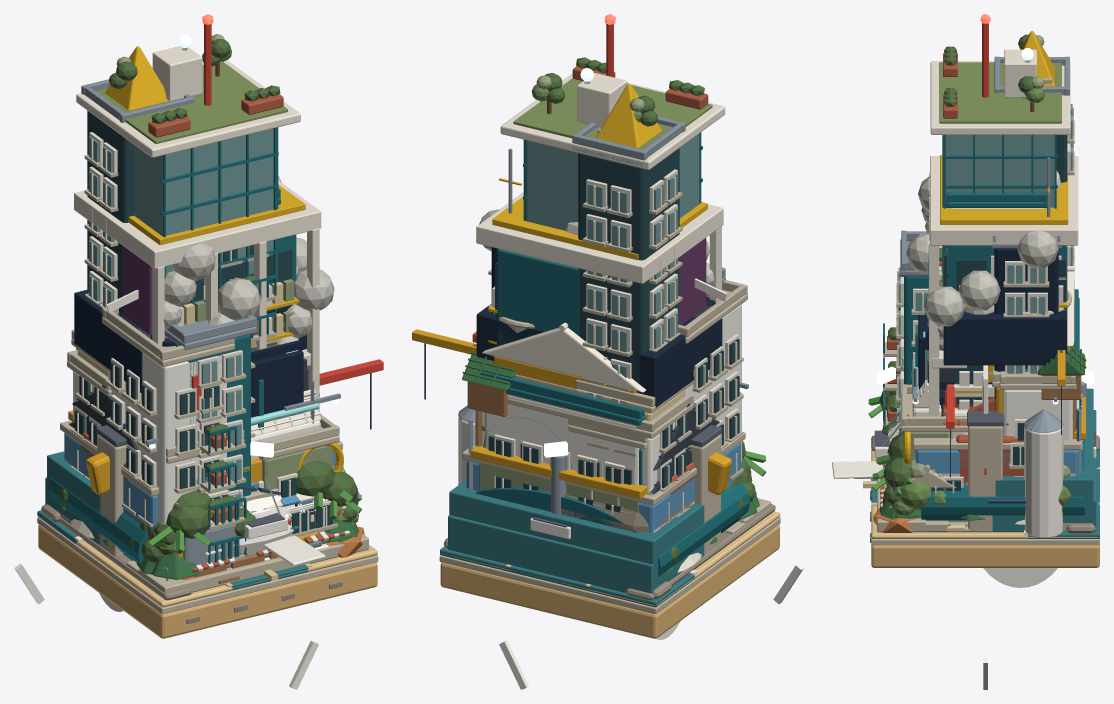
File: mandato.glb
3 renders of one model, left to right at view 1: azimuth 30°, elevation 25°; view 2: azimuth 150°, elevation 25°; view 3: azimuth 270°, elevation 25°, orthographic. The views are drawn at different scales.
Visible parts, largest first — view 1: M-14_M_cream_0.65_0.0, E3-01_M_glassl_0.3_0.0, g-A_M_dune_0.65_0.0, E3-01_M_cream_0.65_0.0, E2-05_M_white_0.65_0.0, E2-05_M_stone_0.65_0.0, E3-01_M_grass2_0.65_0.0, E3-02_M_smoke_0.9_0.0, E2-05_M_cream_0.65_0.0, M-07_M_cream_0.65_0.0, E2-05, M-07 (+45 smaller); view 2: g-A_M_dune_0.65_0.0, M-07_M_glass_0.65_0.0, R-MON-2_M_sea_0.15_0.0, M-05_M_sea_0.15_0.0, M-14_M_cream_0.65_0.0, M-14_M_teal_0.65_0.0, E3-01_M_glassl_0.3_0.0, M-13_M_navy_0.65_0.0, E3-01_M_cream_0.65_0.0, R-LIT-3_M_white_0.65_0.0, M-07_M_cream_0.65_0.0, E2-05_M_stone_0.65_0.0 (+38 smaller); view 3: M-14_M_cream_0.65_0.0, M-13_M_navy_0.65_0.0, E3-01_M_glassl_0.3_0.0, g-A_M_dune_0.65_0.0, E3-01_M_grass2_0.65_0.0, E3-02_M_white_0.65_0.0, E3-01_M_cream_0.65_0.0, M-05_M_sea_0.15_0.0, M-14_M_gold_0.65_0.0, E2-03_M_smoke_0.9_0.0, E3-04_M_teal_0.65_0.0, M-05_M_stone_0.65_0.0 (+43 smaller).
Boxes of the visible parts, x1,y1,x2,y2 form: M-14_M_cream_0.65_0.0: [74, 180, 321, 412]; E3-01_M_glassl_0.3_0.0: [134, 128, 273, 285]; g-A_M_dune_0.65_0.0: [38, 524, 377, 638]; E3-01_M_cream_0.65_0.0: [76, 46, 349, 571]; E2-05_M_white_0.65_0.0: [73, 353, 328, 549]; E2-05_M_stone_0.65_0.0: [67, 307, 235, 563]; E3-01_M_grass2_0.65_0.0: [96, 61, 287, 143]; E3-02_M_smoke_0.9_0.0: [163, 243, 260, 328]; E2-05_M_cream_0.65_0.0: [75, 358, 220, 519]; M-07_M_cream_0.65_0.0: [89, 132, 242, 506]; E2-05: [74, 362, 219, 500]; M-07: [88, 136, 241, 507]; g-A_M_dune_0.65_0.0: [440, 525, 779, 638]; M-07_M_glass_0.65_0.0: [578, 148, 679, 393]; R-MON-2_M_sea_0.15_0.0: [448, 515, 679, 593]; M-05_M_sea_0.15_0.0: [449, 479, 704, 583]; M-14_M_cream_0.65_0.0: [476, 192, 723, 307]; M-14_M_teal_0.65_0.0: [497, 249, 579, 345]; E3-01_M_glassl_0.3_0.0: [526, 134, 699, 230]; M-13_M_navy_0.65_0.0: [476, 304, 722, 407]; E3-01_M_cream_0.65_0.0: [500, 73, 725, 169]; R-LIT-3_M_white_0.65_0.0: [485, 395, 638, 484]; M-07_M_cream_0.65_0.0: [586, 169, 677, 403]; E2-05_M_stone_0.65_0.0: [507, 280, 747, 516]; M-14_M_cream_0.65_0.0: [929, 156, 1078, 416]; M-13_M_navy_0.65_0.0: [943, 309, 1067, 365]; E3-01_M_glassl_0.3_0.0: [945, 135, 1054, 286]; g-A_M_dune_0.65_0.0: [871, 545, 1099, 567]; E3-01_M_grass2_0.65_0.0: [939, 62, 1061, 123]; E3-02_M_white_0.65_0.0: [1024, 426, 1063, 538]; E3-01_M_cream_0.65_0.0: [880, 49, 1070, 507]; M-05_M_sea_0.15_0.0: [882, 388, 1093, 531]; M-14_M_gold_0.65_0.0: [940, 155, 1068, 393]; E2-03_M_smoke_0.9_0.0: [958, 230, 1058, 314]; E3-04_M_teal_0.65_0.0: [921, 440, 1084, 520]; M-05_M_stone_0.65_0.0: [968, 426, 1002, 530].
Size of the model in its own units: 3.14 by 6.02 by 2.3.
